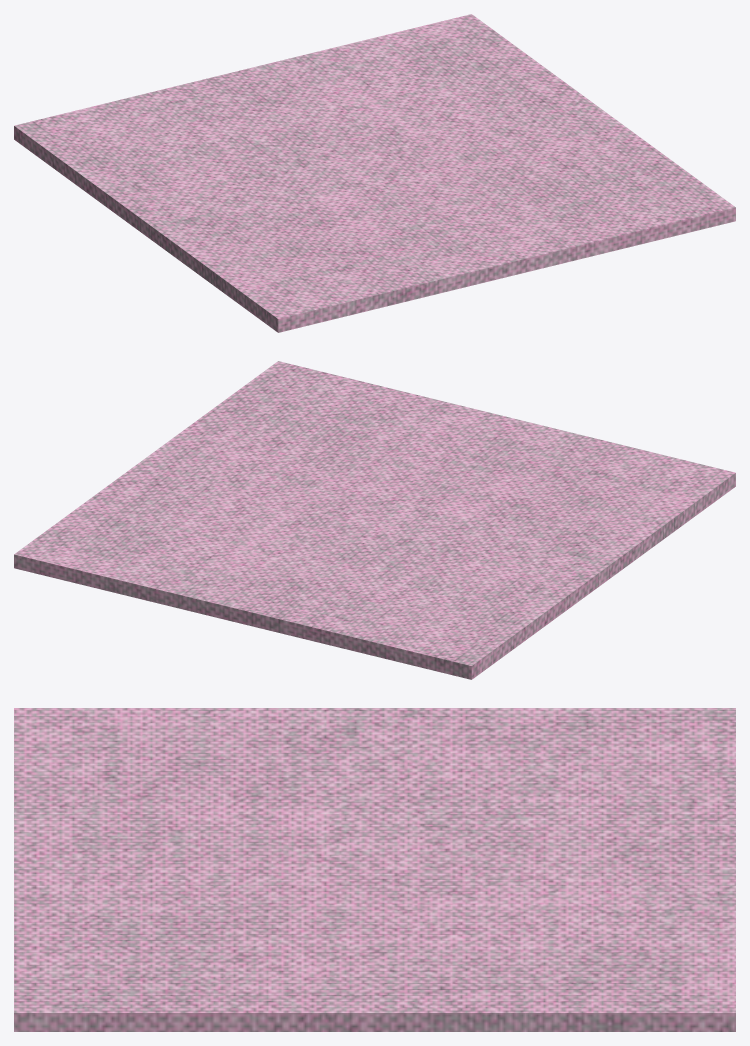
The model's file is Fabric.glb.
3 renders of one model, top to bottom at view 1: azimuth 30°, elevation 25°; view 2: azimuth 150°, elevation 25°; view 3: azimuth 270°, elevation 25°, orthographic. The views are drawn at different scales.
Parts seen in each view (by area): view 1: Fabric_Cloth; view 2: Fabric_Cloth; view 3: Fabric_Cloth.
Part boxes in pixels (box(x1,y1,x2,y2)): Fabric_Cloth: box(14, 14, 735, 332); Fabric_Cloth: box(14, 361, 735, 679); Fabric_Cloth: box(14, 708, 735, 1031).
Size of the model in its own units: 0.6251 by 0.018 by 0.6251.
Materials: 1 (1 with a texture image).
